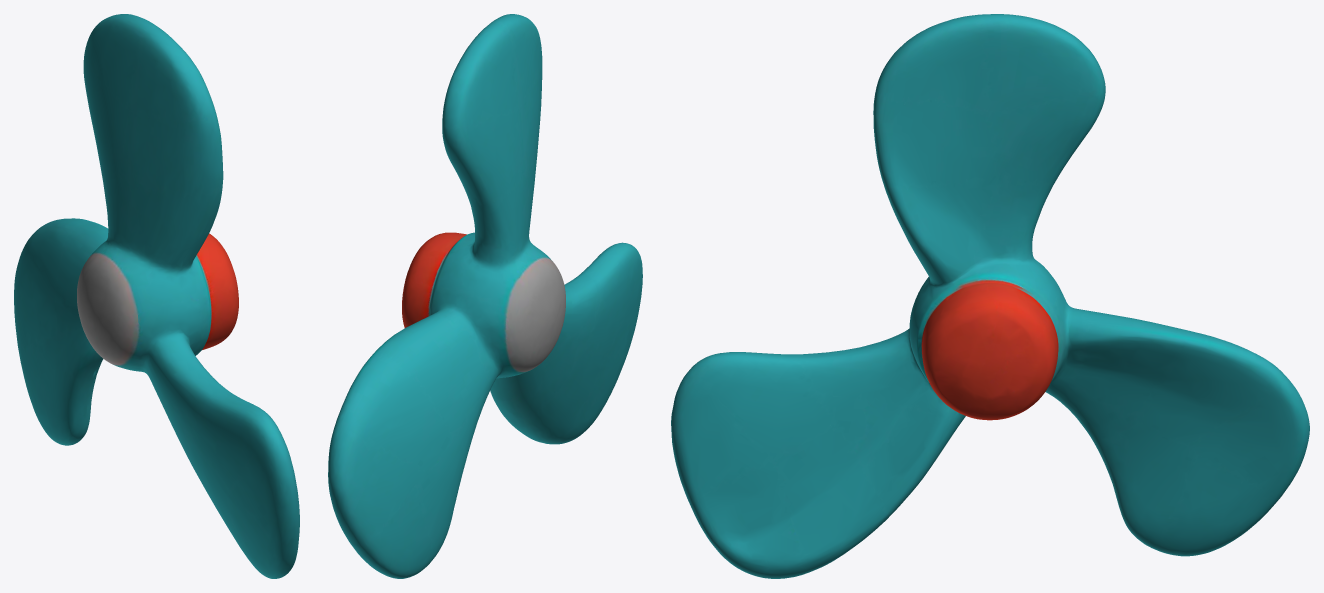
Rendered from propeller.glb.
3 views of the same model, side by side, from view 1: azimuth 30°, elevation 25°; view 2: azimuth 150°, elevation 25°; view 3: azimuth 270°, elevation 25° (orthographic). The views are drawn at different scales.
Parts seen in each view (by area): view 1: tripo_node_51458208-dfb1-4932-adbc-5932a239c526; view 2: tripo_node_51458208-dfb1-4932-adbc-5932a239c526; view 3: tripo_node_51458208-dfb1-4932-adbc-5932a239c526.
Boxes of the visible parts, x1,y1,x2,y2 form: tripo_node_51458208-dfb1-4932-adbc-5932a239c526: (14,14,299,578); tripo_node_51458208-dfb1-4932-adbc-5932a239c526: (328,14,642,578); tripo_node_51458208-dfb1-4932-adbc-5932a239c526: (671,14,1309,578).
Bounding box in the file's own units: 0.2723 × 0.9478 × 1.
Materials: 1 (1 with a texture image).
